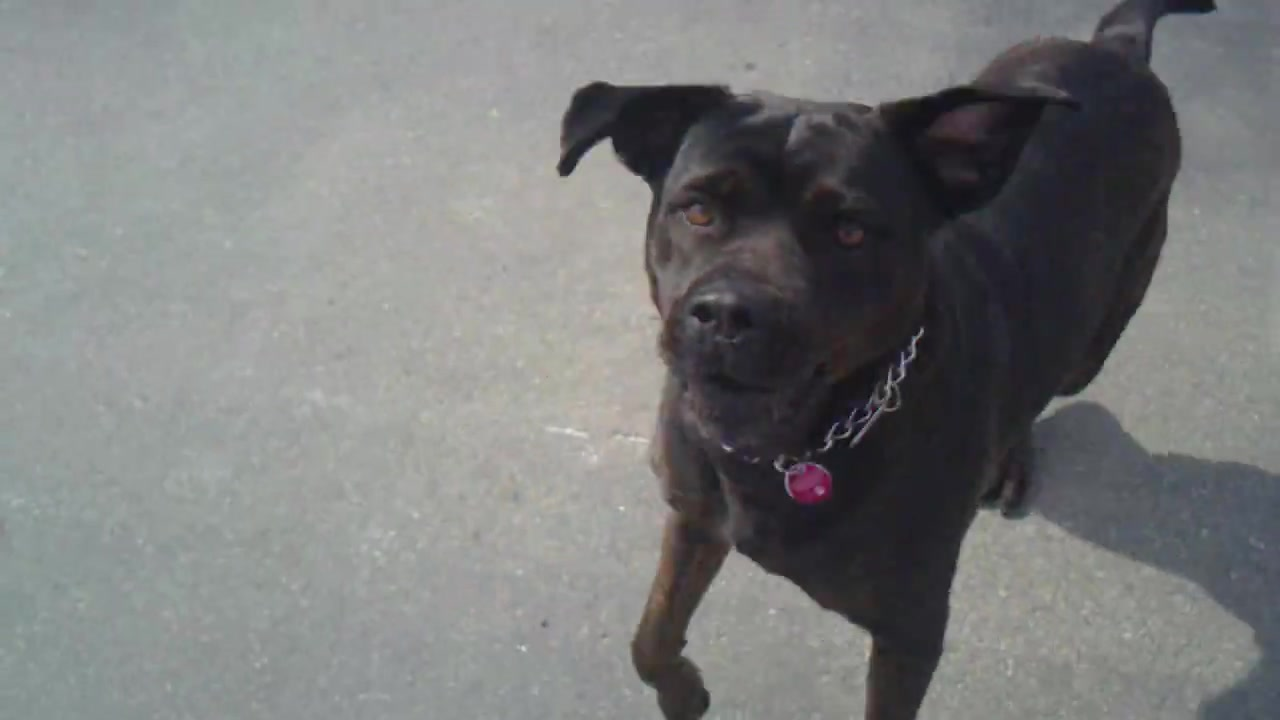dog: (557, 1, 1226, 720)
